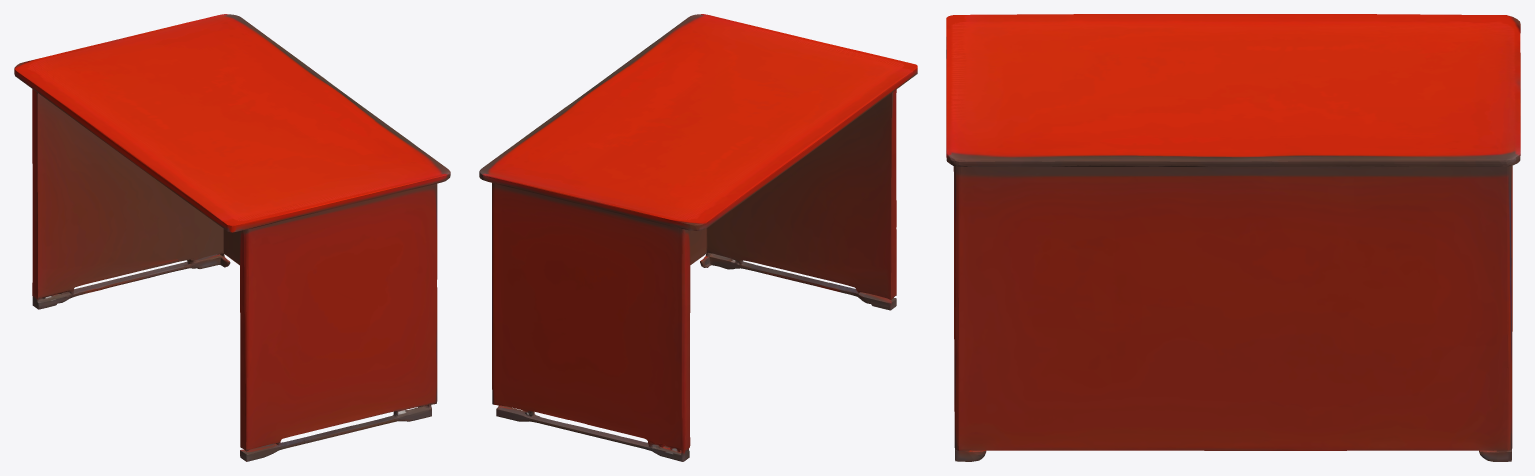
3 views of the same model, side by side, from view 1: azimuth 30°, elevation 25°; view 2: azimuth 150°, elevation 25°; view 3: azimuth 270°, elevation 25° (orthographic). The views are drawn at different scales.
Visible parts, largest first — view 1: wooden_grain_desk.obj; view 2: wooden_grain_desk.obj; view 3: wooden_grain_desk.obj.
Boxes of the visible parts, left/top/right/bottom form: wooden_grain_desk.obj: left=14, top=14, right=450, bottom=461; wooden_grain_desk.obj: left=479, top=14, right=917, bottom=461; wooden_grain_desk.obj: left=946, top=14, right=1520, bottom=461.
Size of the model in its own units: 0.7099 by 0.7336 by 1.2.
Materials: 1 (1 with a texture image).
